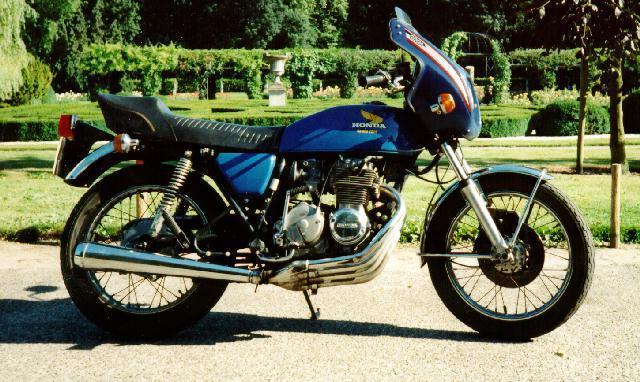Motorcycle: (51, 1, 606, 359)
